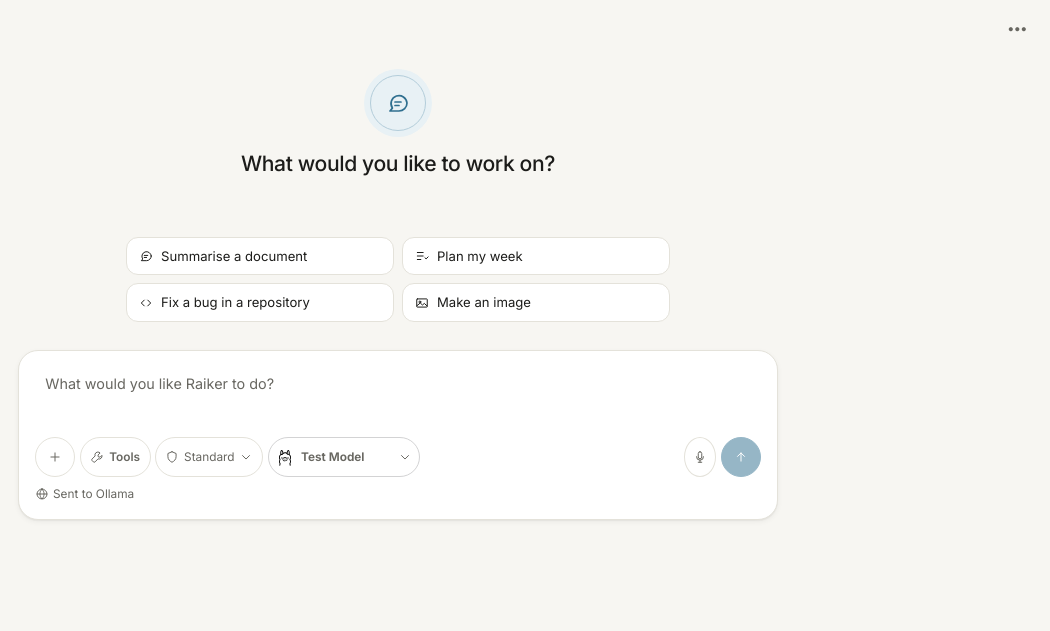
ChatView composer — commands, mentions and message actions › offers code-map paths for an @ mention and inserts the one chosen
Type "look at @main" into the text box named "Prompt".
click(398, 396); type("look at @main")  # box [35, 367, 761, 425]
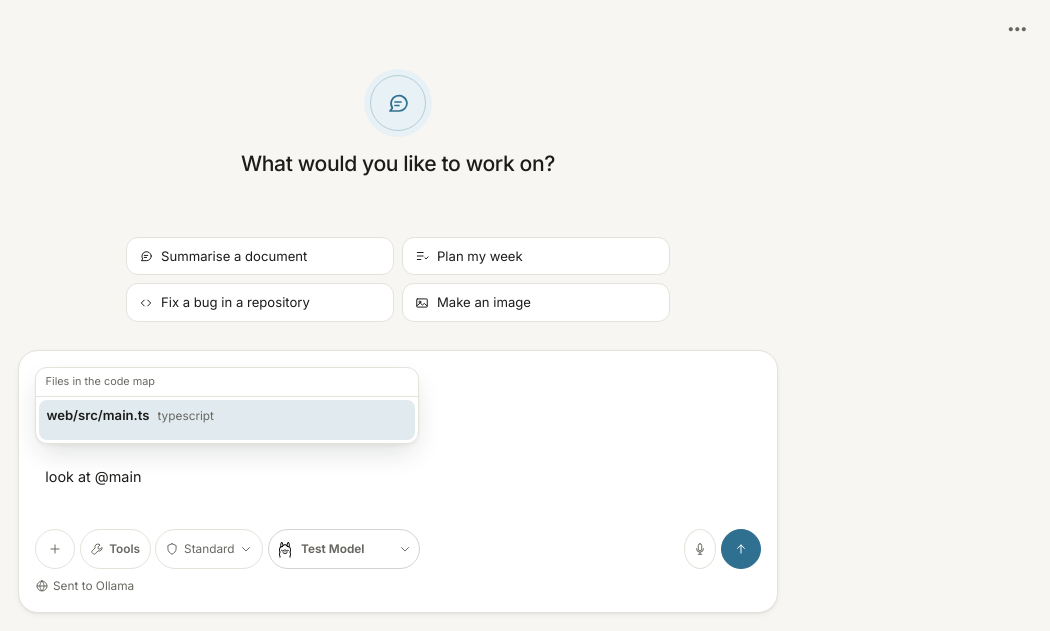
Press the mouse on the text "web/src/main.ts" at coordinates (98, 415), box [46, 405, 150, 425]
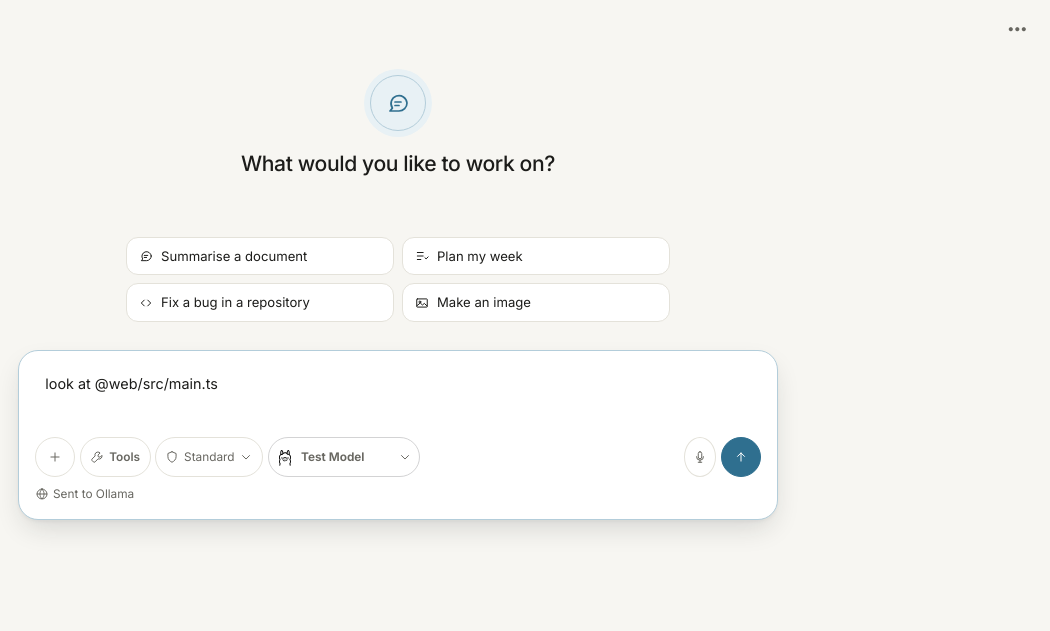
Expected: the text box named "Prompt" holds "look at @web/src/main.ts ", [35, 367, 761, 425]
